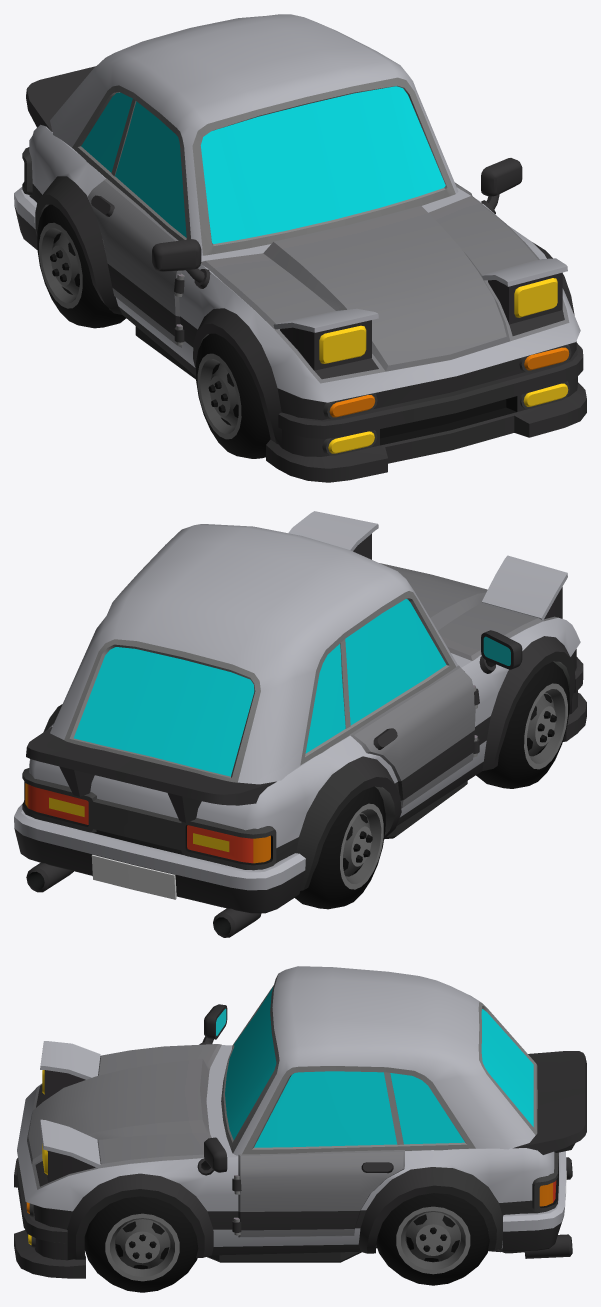
File: VEH14-A.fbx
3 renders of one model, top to bottom at view 1: azimuth 30°, elevation 25°; view 2: azimuth 150°, elevation 25°; view 3: azimuth 270°, elevation 25°, orthographic. The views are drawn at different scales.
Parts seen in each view (by area): view 1: VEH14_A, V14A_Wheel_FR, V14A_Wheel_BR; view 2: VEH14_A, V14A_Wheel_FR, V14A_Wheel_BR; view 3: VEH14_A, V14A_Wheel_FL, V14A_Wheel_BL.
Boxes of the visible parts, bbox=[...] form: VEH14_A: bbox=[14, 14, 586, 482]; V14A_Wheel_FR: bbox=[196, 333, 270, 458]; V14A_Wheel_BR: bbox=[37, 204, 126, 328]; VEH14_A: bbox=[14, 511, 586, 937]; V14A_Wheel_FR: bbox=[476, 661, 569, 788]; V14A_Wheel_BR: bbox=[295, 786, 385, 909]; VEH14_A: bbox=[14, 966, 586, 1278]; V14A_Wheel_FL: bbox=[84, 1196, 198, 1292]; V14A_Wheel_BL: bbox=[376, 1193, 489, 1285].
Bounding box in the file's own units: 270 × 195 × 431.
Materials: 1 (1 with a texture image).
